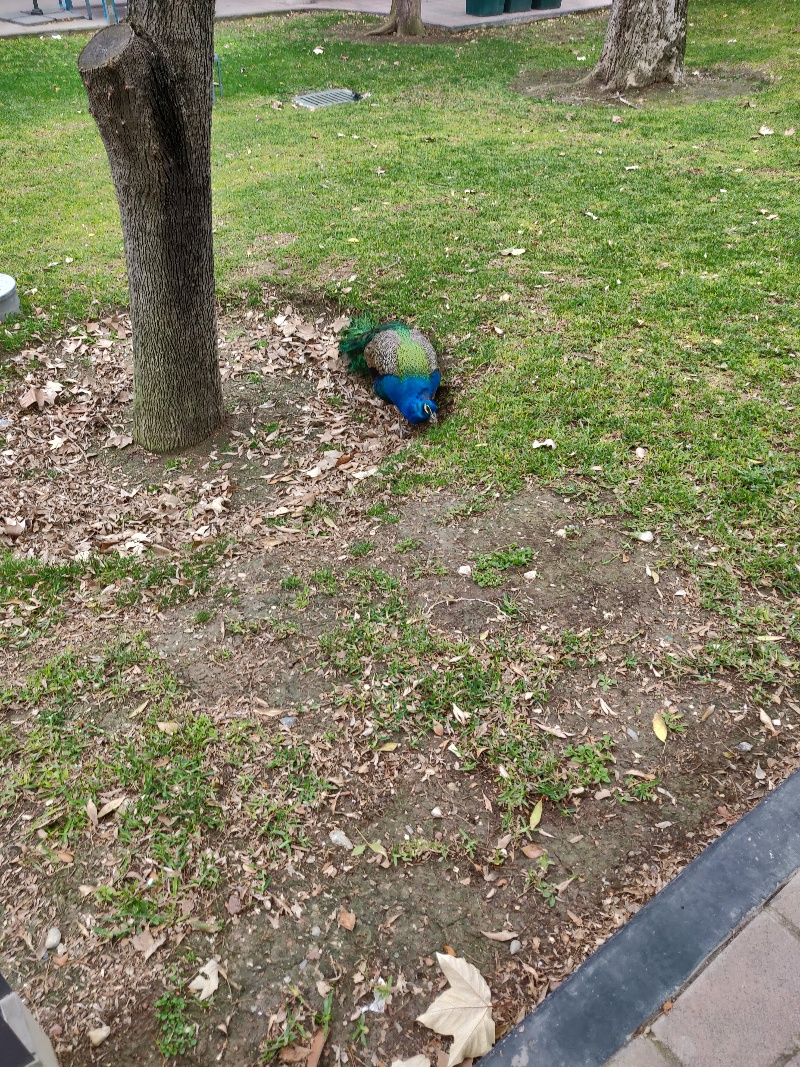pavoreal: (345, 313, 449, 431)
